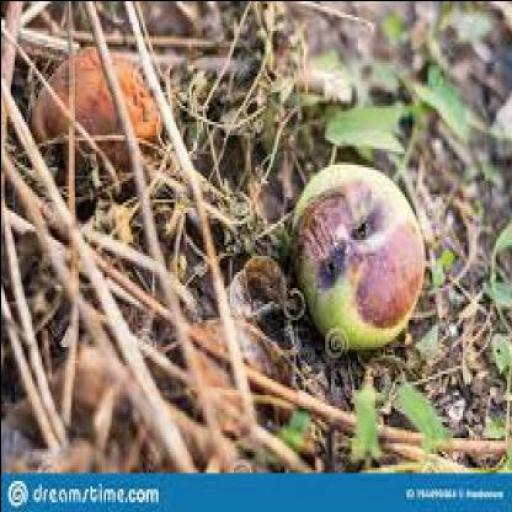biodegradable: (291, 158, 419, 352), (16, 348, 206, 462), (29, 42, 159, 183), (167, 316, 297, 432)
